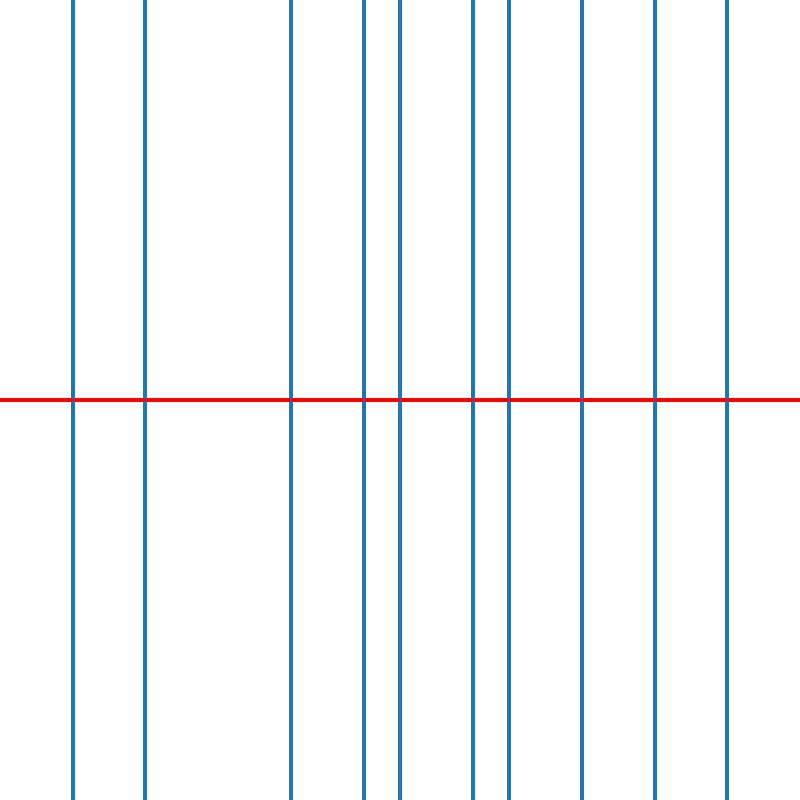root: (141, 396, 149, 404), (650, 396, 658, 404), (505, 396, 512, 404), (578, 396, 585, 404), (396, 396, 403, 404), (723, 396, 730, 404), (287, 396, 294, 404), (69, 396, 76, 404), (360, 396, 367, 404), (469, 396, 476, 404)
